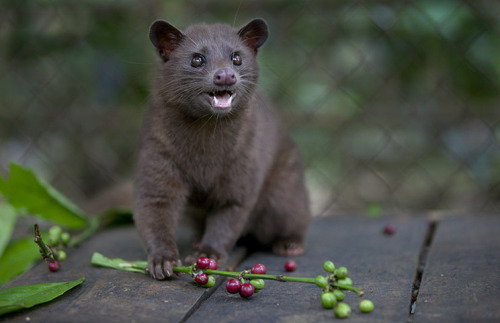Civet: (132, 8, 314, 286)
